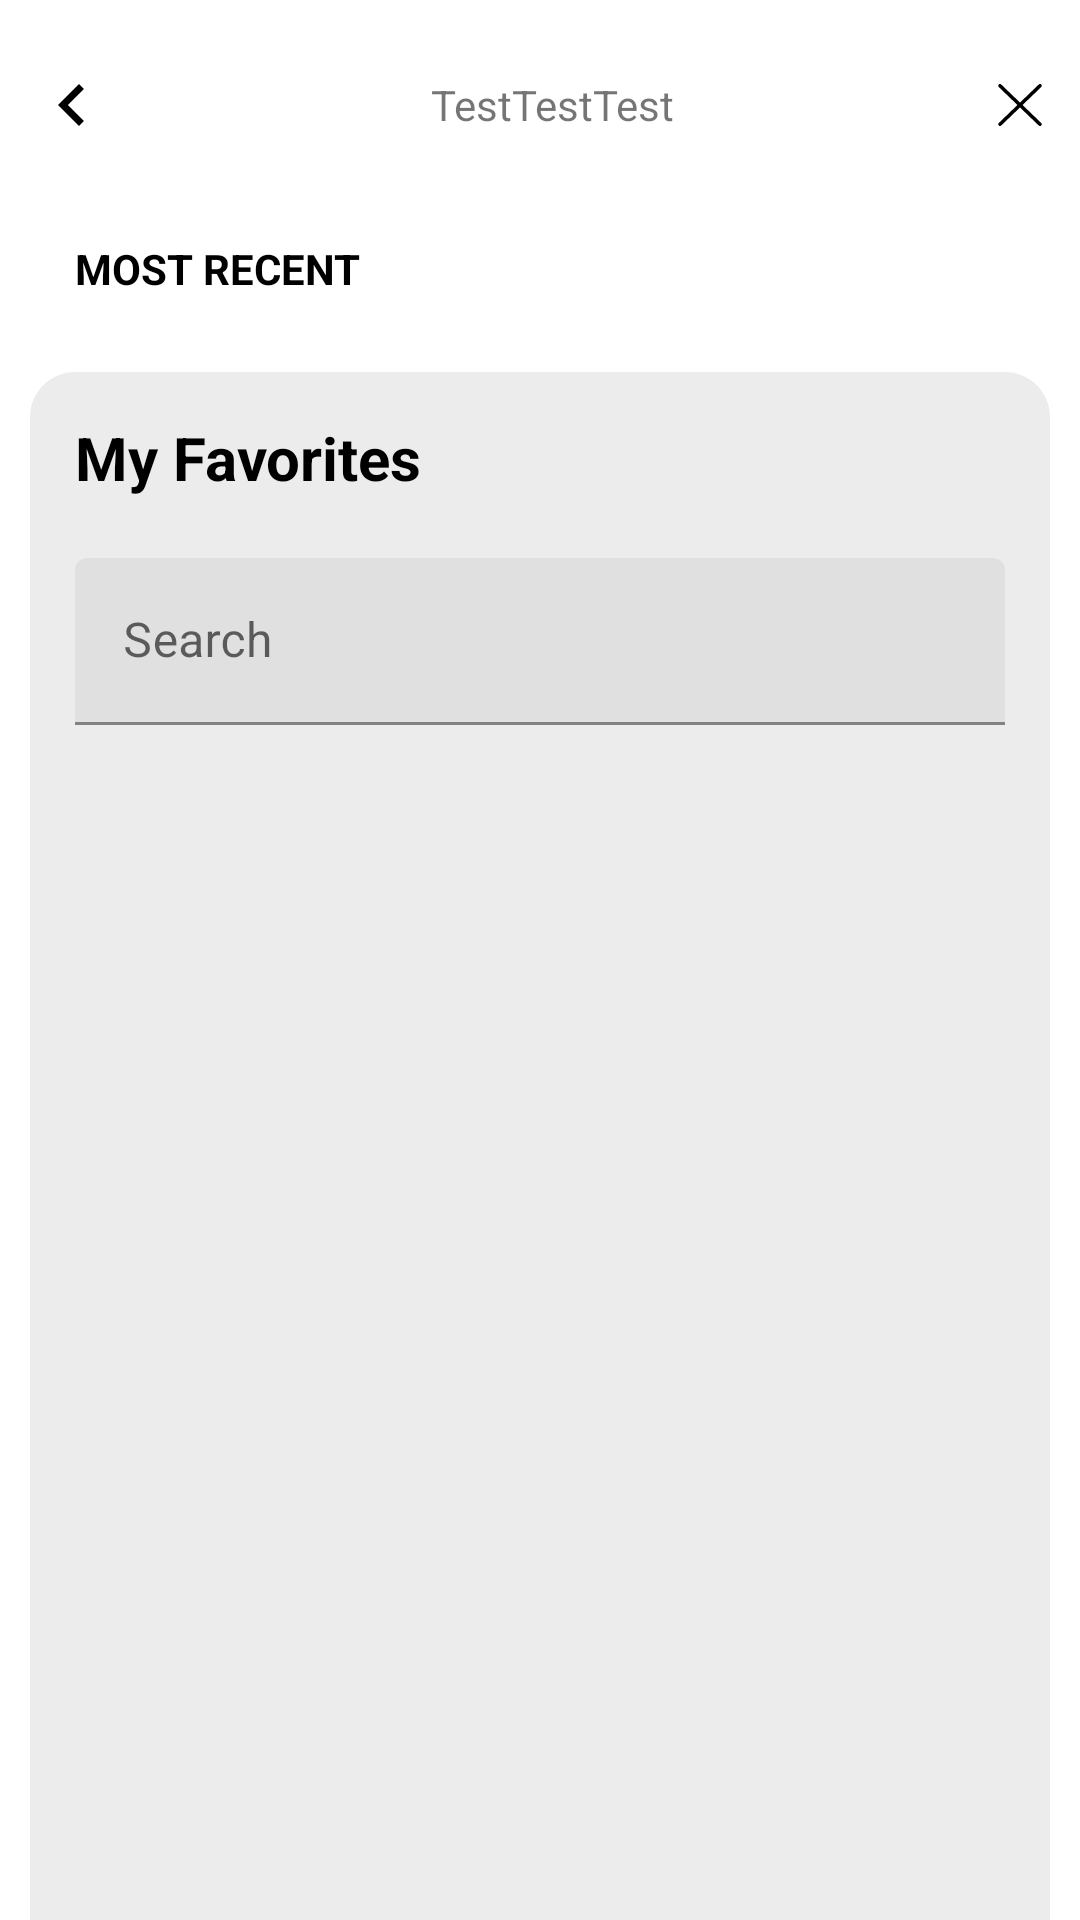

Where to tap for icons on this 1080px×1920px app screen, as [x,y]:
back: [71,105]
cross: [1020,105]
